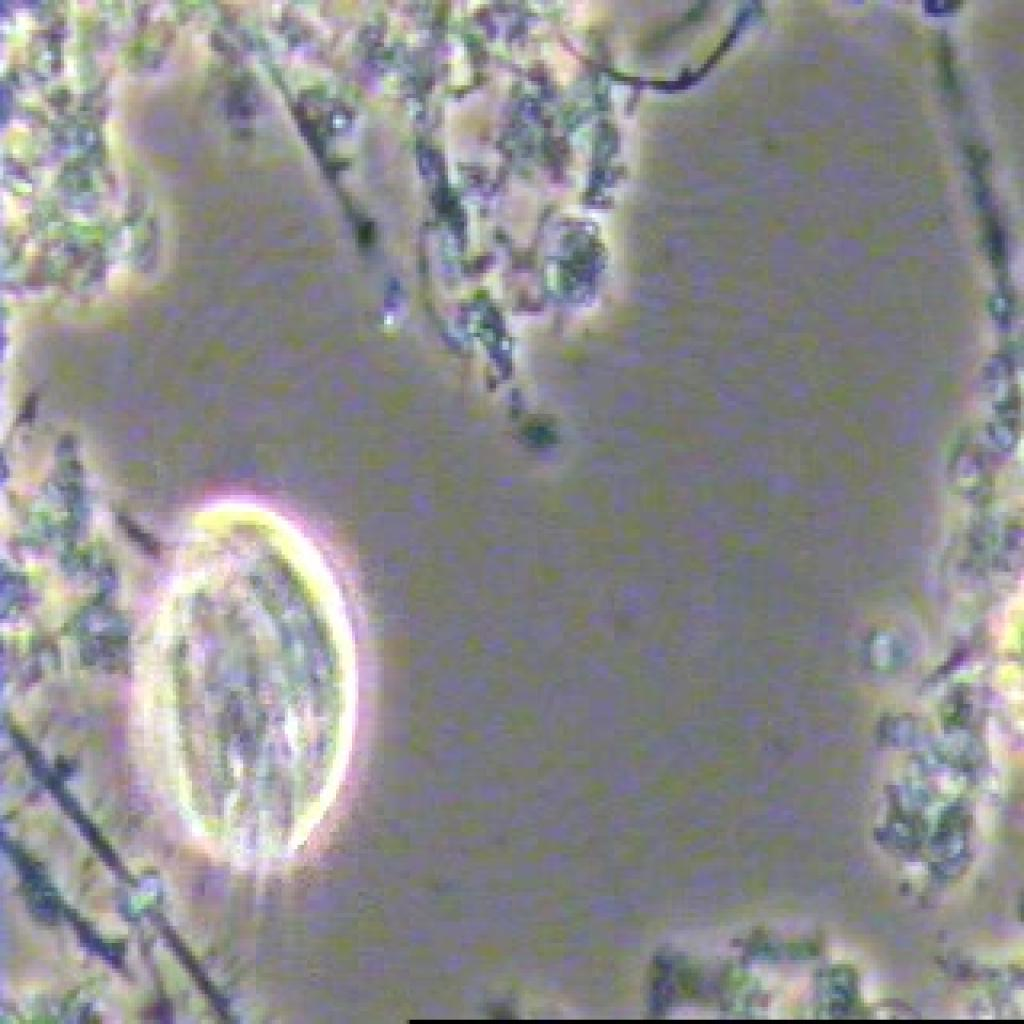Aspidisca: (107, 456, 386, 952)
